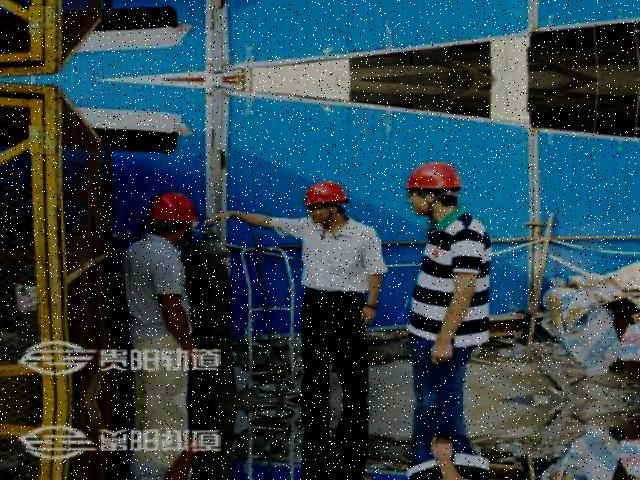Helmet: (138, 187, 204, 230), (297, 174, 350, 214), (401, 160, 463, 192)
